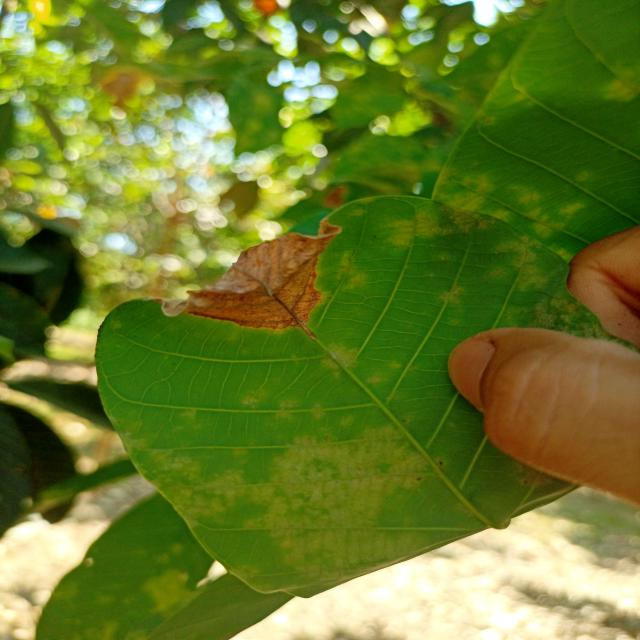Colletotrichum: (439, 461, 444, 466)
Leaf-Blight: (150, 217, 342, 331)
